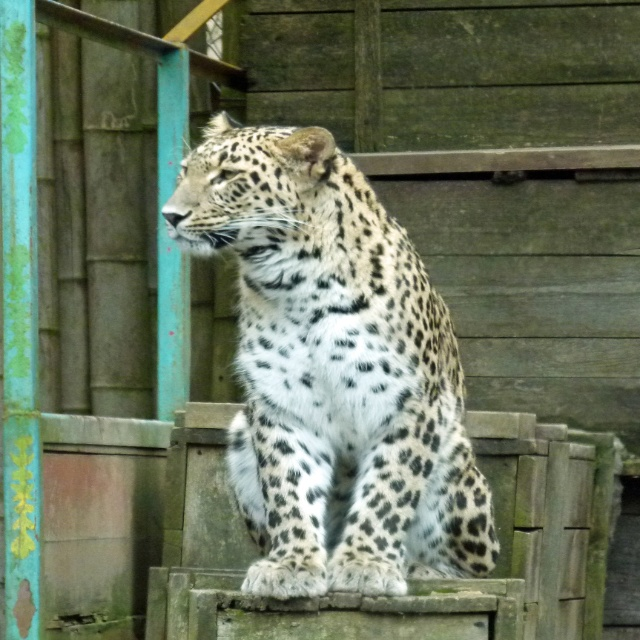Cheetah: (161, 110, 501, 603)
